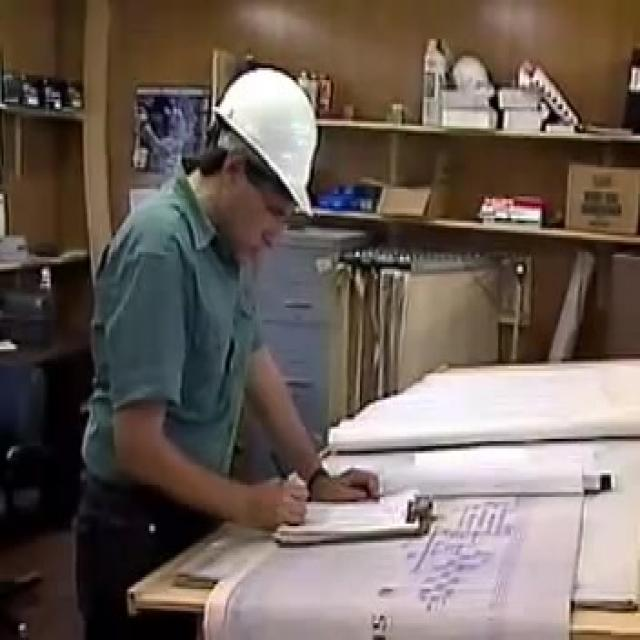Safety-Helmet: (200, 56, 335, 225)
